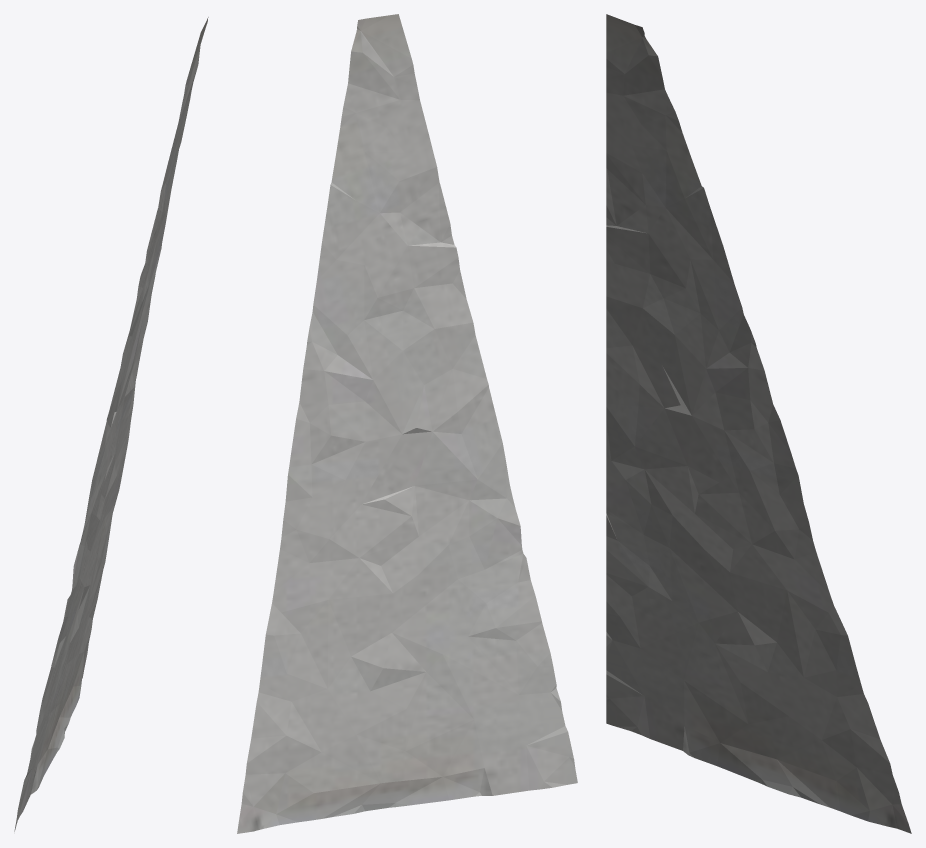
The picture shows the model from 3 angles, left to right: view 1: azimuth 30°, elevation 25°; view 2: azimuth 150°, elevation 25°; view 3: azimuth 270°, elevation 25°; orthographic projection. The views are drawn at different scales.
Bounding box in the file's own units: 0.2458 × 0.8373 × 0.2875.
1 material, 1 textured.
